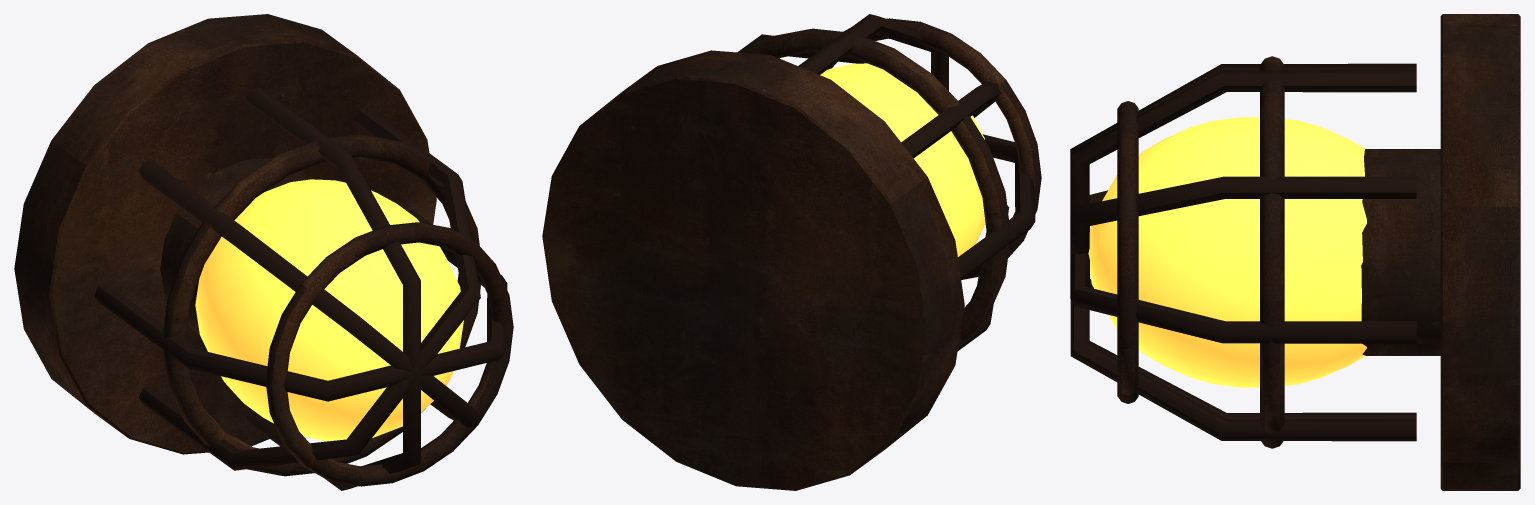
The model's file is light_cage.glb.
3 renders of one model, left to right at view 1: azimuth 30°, elevation 25°; view 2: azimuth 150°, elevation 25°; view 3: azimuth 270°, elevation 25°, orthographic. The views are drawn at different scales.
Parts seen in each view (by area): view 1: LightCage; view 2: LightCage; view 3: LightCage.
Part boxes in pixels (x1=…): LightCage: x1=14, y1=14, x2=513, y2=490; LightCage: x1=542, y1=14, x2=1041, y2=490; LightCage: x1=1070, y1=14, x2=1520, y2=490.
Bounding box in the file's own units: 0.3 × 0.3 × 0.2811.
2 materials, 1 textured.
